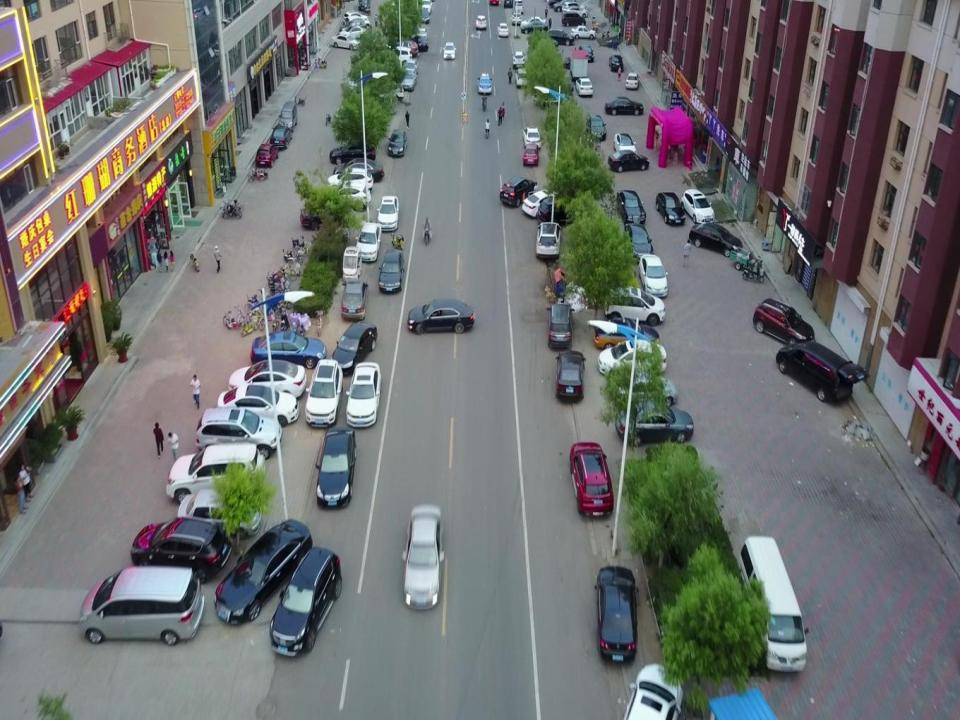car: (214, 518, 313, 625), (269, 546, 342, 656), (130, 516, 232, 583), (165, 444, 264, 505), (196, 406, 282, 459), (594, 566, 638, 666), (403, 503, 443, 611), (176, 488, 261, 538), (615, 400, 694, 446), (216, 383, 299, 426), (620, 663, 682, 720), (314, 428, 356, 509), (570, 440, 612, 518), (752, 298, 816, 348), (250, 330, 327, 369), (228, 359, 305, 397), (603, 285, 665, 327), (330, 321, 377, 375), (306, 359, 342, 428), (598, 340, 666, 376), (407, 298, 475, 334), (594, 315, 660, 352), (346, 362, 380, 428), (612, 371, 676, 406), (689, 221, 743, 257), (554, 349, 587, 399), (638, 254, 669, 298), (324, 182, 371, 210), (623, 222, 654, 264), (546, 302, 574, 348), (680, 188, 715, 224), (326, 169, 374, 195), (333, 157, 384, 181), (537, 196, 579, 225), (522, 188, 562, 218), (299, 204, 343, 231), (499, 174, 534, 207), (340, 278, 368, 319), (378, 248, 404, 292), (330, 140, 374, 166), (355, 221, 382, 262), (616, 190, 645, 225), (655, 191, 685, 224), (607, 150, 649, 171), (536, 222, 560, 258), (376, 194, 399, 231), (604, 96, 643, 116), (342, 245, 362, 282), (612, 133, 636, 160), (372, 83, 404, 103), (385, 38, 418, 57), (255, 142, 278, 168), (387, 128, 407, 156), (585, 114, 606, 140), (270, 125, 292, 149), (388, 46, 412, 67), (547, 27, 573, 45), (522, 126, 541, 150), (330, 35, 360, 50), (348, 64, 364, 91), (522, 143, 540, 166), (339, 20, 366, 35), (520, 20, 548, 34), (344, 10, 368, 26), (570, 26, 596, 40), (340, 26, 366, 40), (400, 69, 417, 90), (520, 15, 546, 28), (344, 16, 370, 29), (562, 12, 586, 26), (410, 35, 429, 52), (575, 78, 592, 96), (477, 73, 492, 93), (608, 54, 624, 72), (578, 44, 594, 62), (402, 59, 418, 77), (553, 0, 579, 11), (563, 6, 588, 17), (515, 68, 528, 88), (625, 72, 639, 90), (443, 42, 456, 60), (512, 50, 525, 67), (562, 2, 585, 11), (416, 9, 430, 23), (497, 22, 509, 36), (475, 14, 486, 28), (511, 12, 522, 25), (413, 29, 426, 40), (421, 0, 432, 13), (514, 0, 524, 12), (503, 0, 513, 8)
van: (79, 564, 204, 646), (736, 536, 808, 676), (775, 340, 870, 402), (277, 100, 298, 132), (370, 91, 397, 115), (357, 0, 370, 10)
